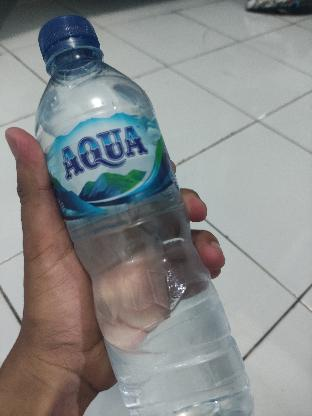Plastic Bottle: (35, 12, 259, 416)
